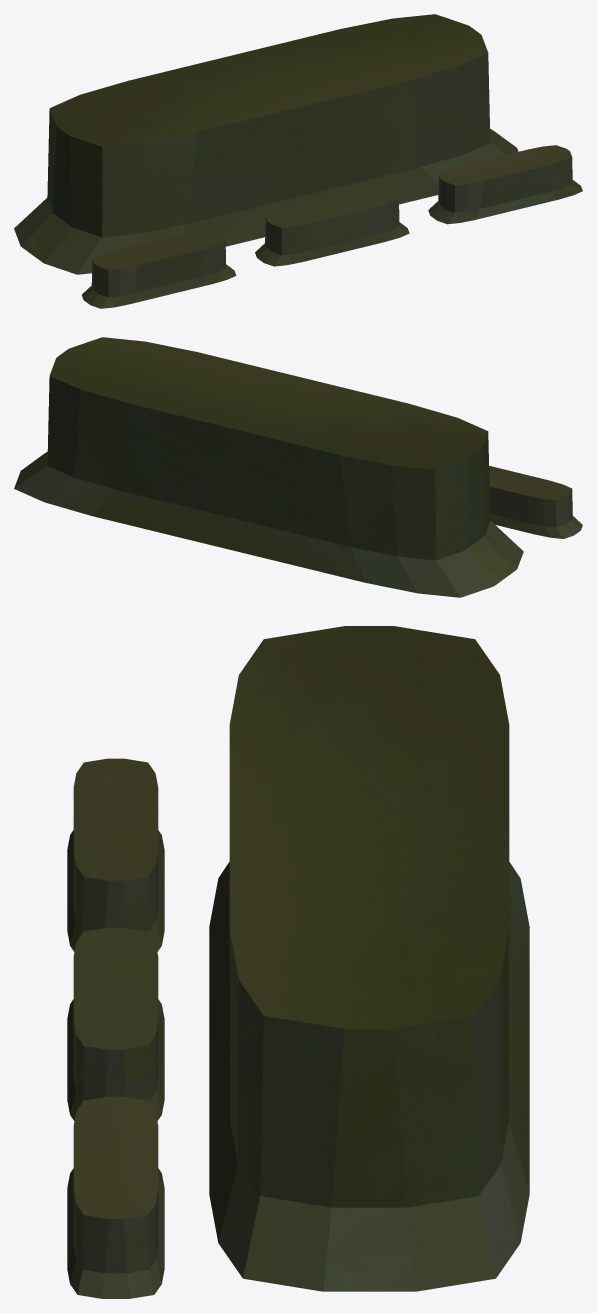
3 views of the same model, one above another, from view 1: azimuth 30°, elevation 25°; view 2: azimuth 150°, elevation 25°; view 3: azimuth 270°, elevation 25° (orthographic). The views are drawn at different scales.
Visible parts, largest first — view 1: Motherboard component 10.002; view 2: Motherboard component 10.002; view 3: Motherboard component 10.002.
Part boxes in pixels (box(x1,y1,x2,y2)): Motherboard component 10.002: box(14, 14, 582, 308); Motherboard component 10.002: box(14, 337, 582, 597); Motherboard component 10.002: box(67, 626, 529, 1298).
Size of the model in its own units: 2.18 by 0.4962 by 0.8915.
